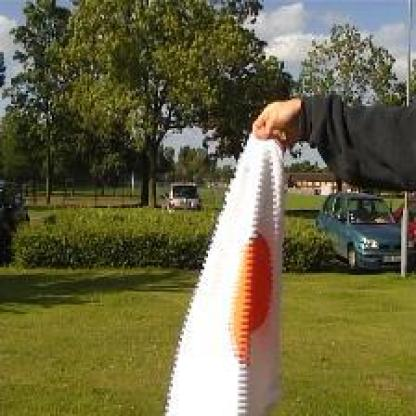other: (228, 223, 281, 360)
